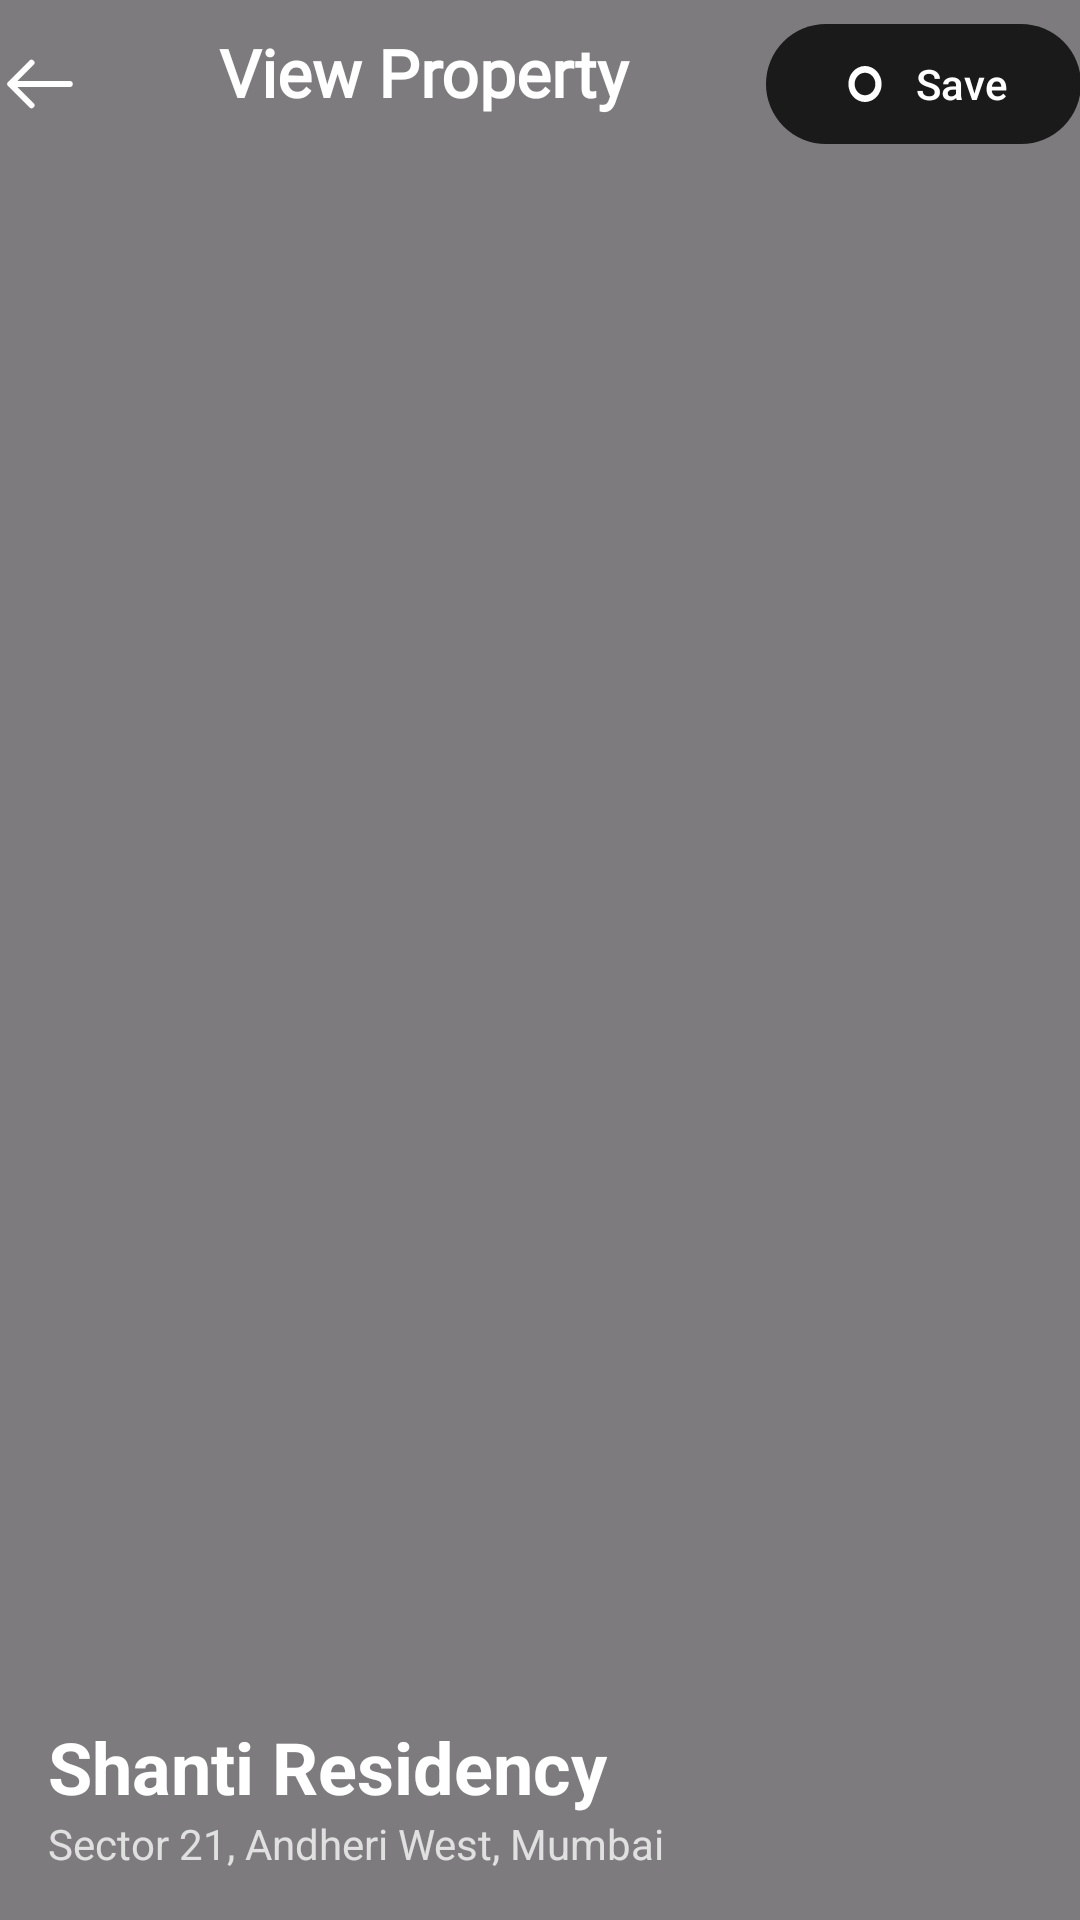

Icon click points for this 1080x1920 phone screenshot, format (x,y):
back arrow: (40,84)
